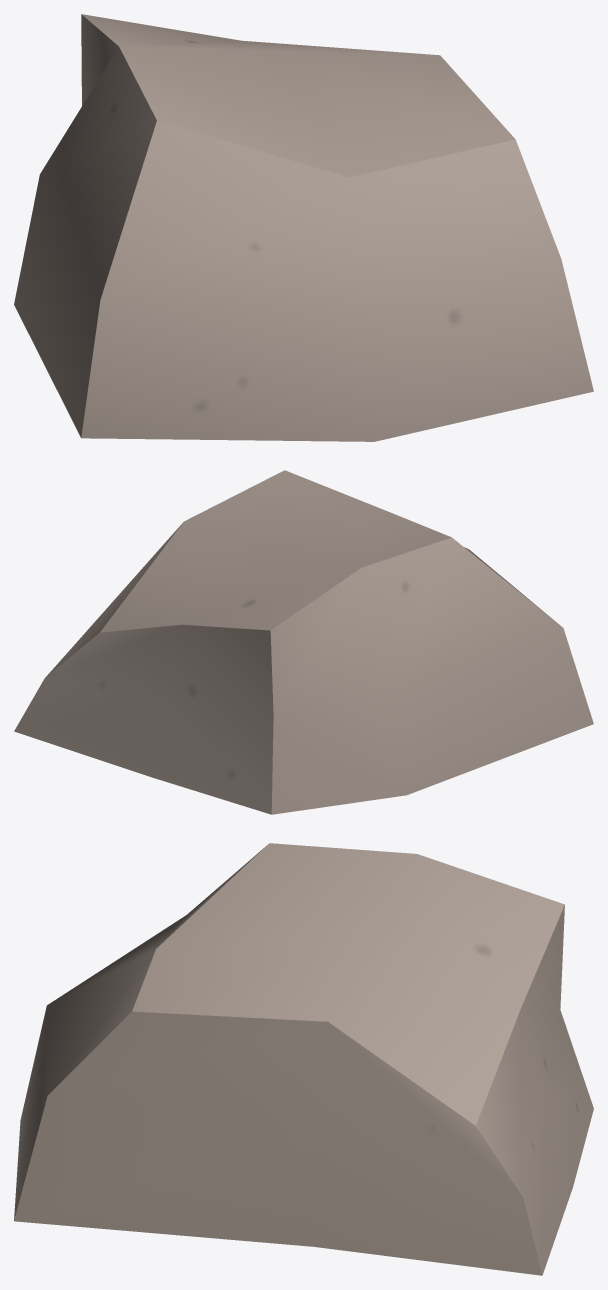
The model's file is FBX_Rock01.fbx.
3 views of the same model, one above another, from view 1: azimuth 30°, elevation 25°; view 2: azimuth 150°, elevation 25°; view 3: azimuth 270°, elevation 25° (orthographic). The views are drawn at different scales.
Parts seen in each view (by area): view 1: pCube25; view 2: pCube25; view 3: pCube25.
Part boxes in pixels (left/top/right/bottom): pCube25: left=14, top=14, right=593, bottom=441; pCube25: left=14, top=470, right=593, bottom=814; pCube25: left=14, top=843, right=593, bottom=1275.
Bounding box in the file's own units: 54.6 × 24.25 × 52.22.
